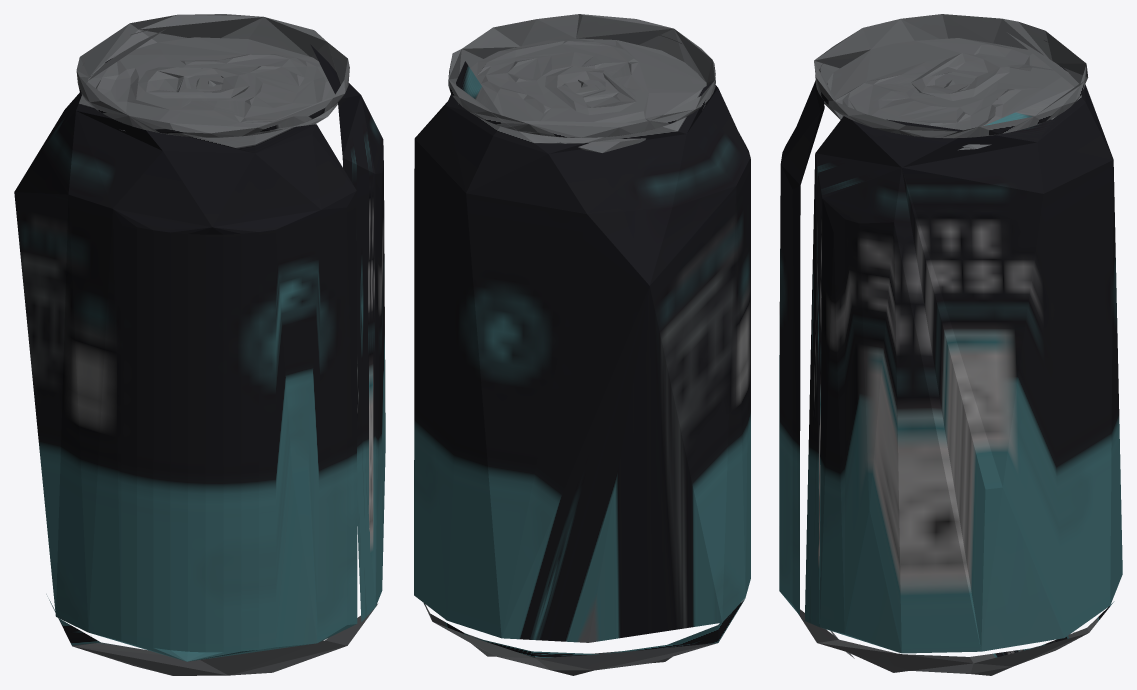
Rendered from food_beverage_can_k01.glb.
The picture shows the model from 3 angles, left to right: view 1: azimuth 30°, elevation 25°; view 2: azimuth 150°, elevation 25°; view 3: azimuth 270°, elevation 25°; orthographic projection.
Visible parts, largest first — view 1: geometry_0; view 2: geometry_0; view 3: geometry_0.
Boxes of the visible parts, left/top/right/bottom form: geometry_0: left=14, top=14, right=385, bottom=675; geometry_0: left=414, top=14, right=750, bottom=675; geometry_0: left=779, top=14, right=1122, bottom=675.
Bounding box in the file's own units: 0.2328 × 0.42 × 0.2346.
1 material, 1 textured.
